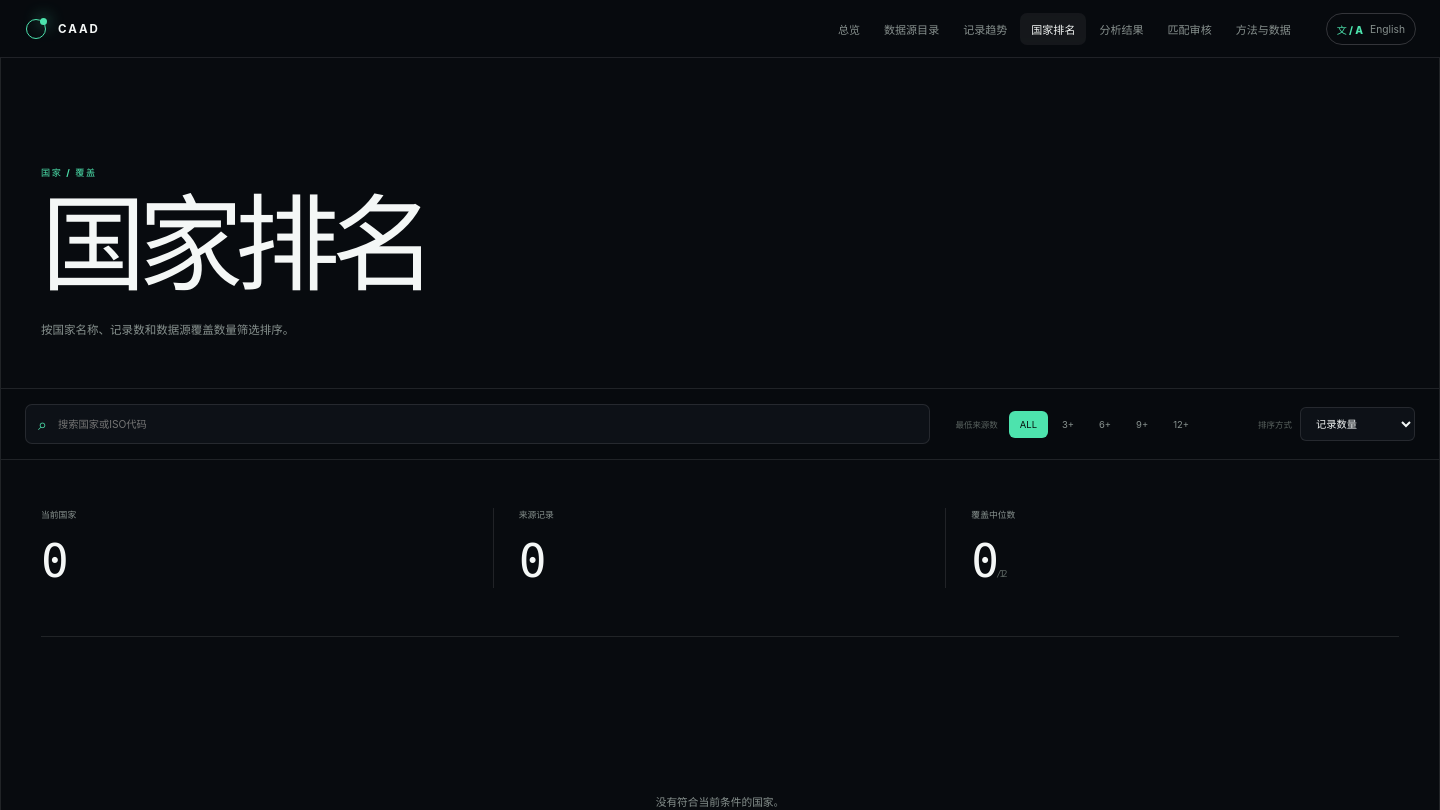
Test case: Atlas application shell › filters the country directory and links back to the map
This screenshot has width=1440, height=810.
Type "AGO" into the field named "搜索国家或ISO代码".
click(487, 424); type("AGO")  # box [56, 417, 918, 431]
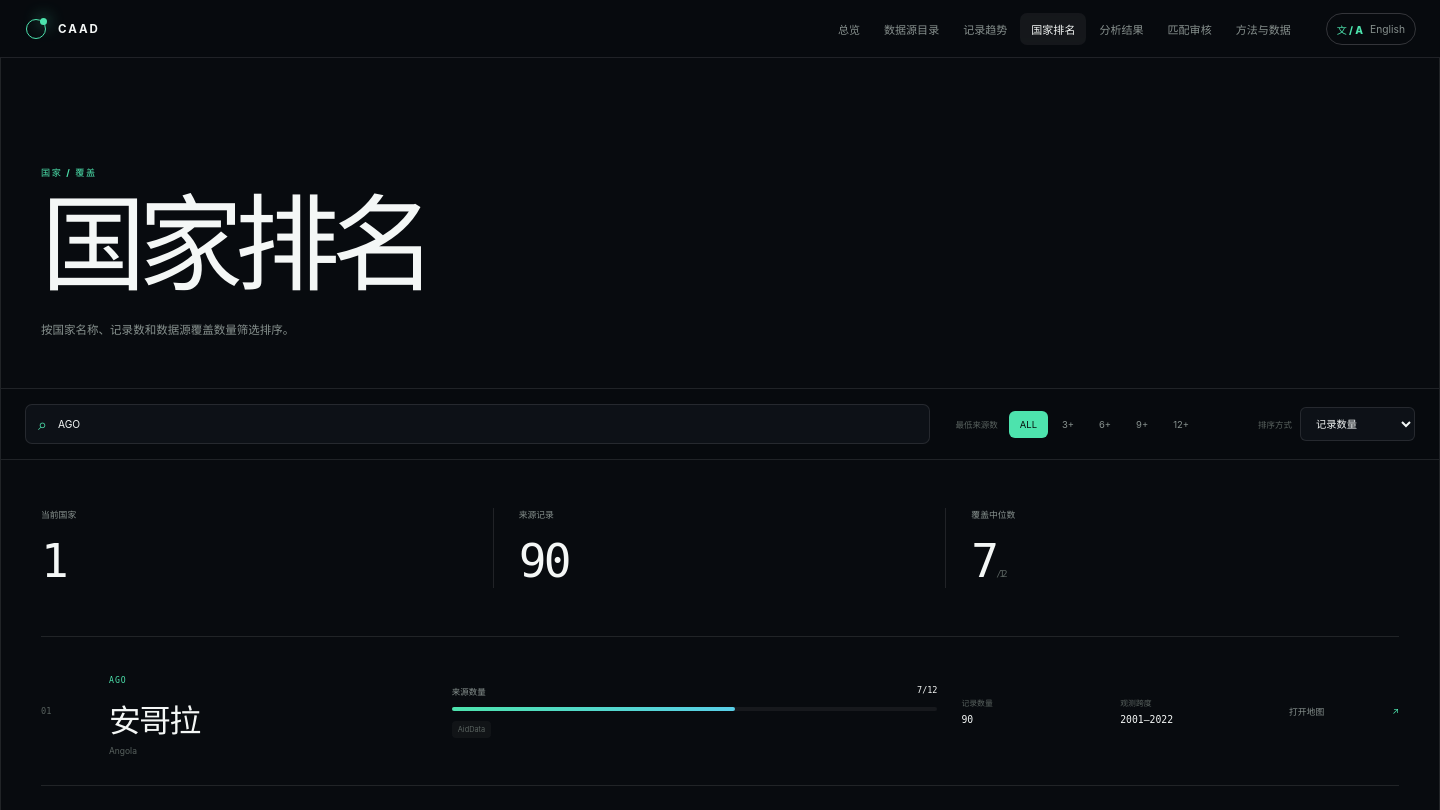
Expected: the heading "安哥拉" is shown, [109, 700, 200, 740]
